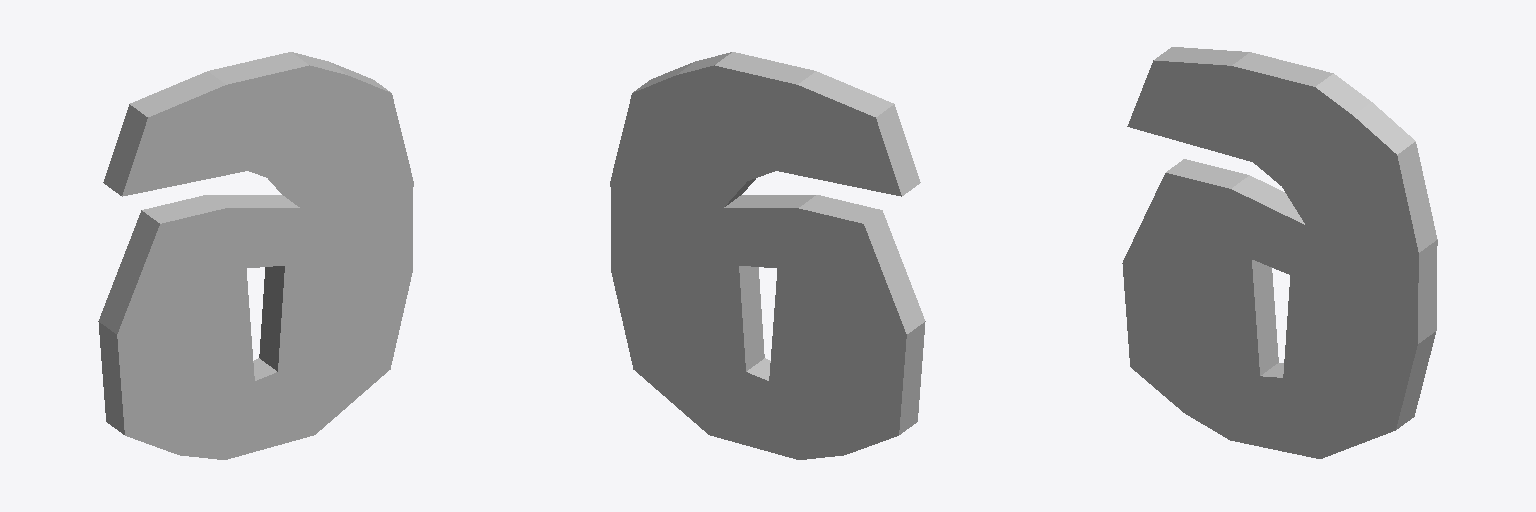
Rendered from number6.obj.
3 views of the same model, side by side, from view 1: azimuth 30°, elevation 25°; view 2: azimuth 150°, elevation 25°; view 3: azimuth 330°, elevation 25° (orthographic).
Parts seen in each view (by area): view 1: 6; view 2: 6; view 3: 6.
Part boxes in pixels (left/top/right/bottom): 6: left=98, top=52, right=413, bottom=459; 6: left=610, top=52, right=925, bottom=459; 6: left=1122, top=47, right=1437, bottom=458.
Bounding box in the file's own units: 1.83 × 2.21 × 0.2.